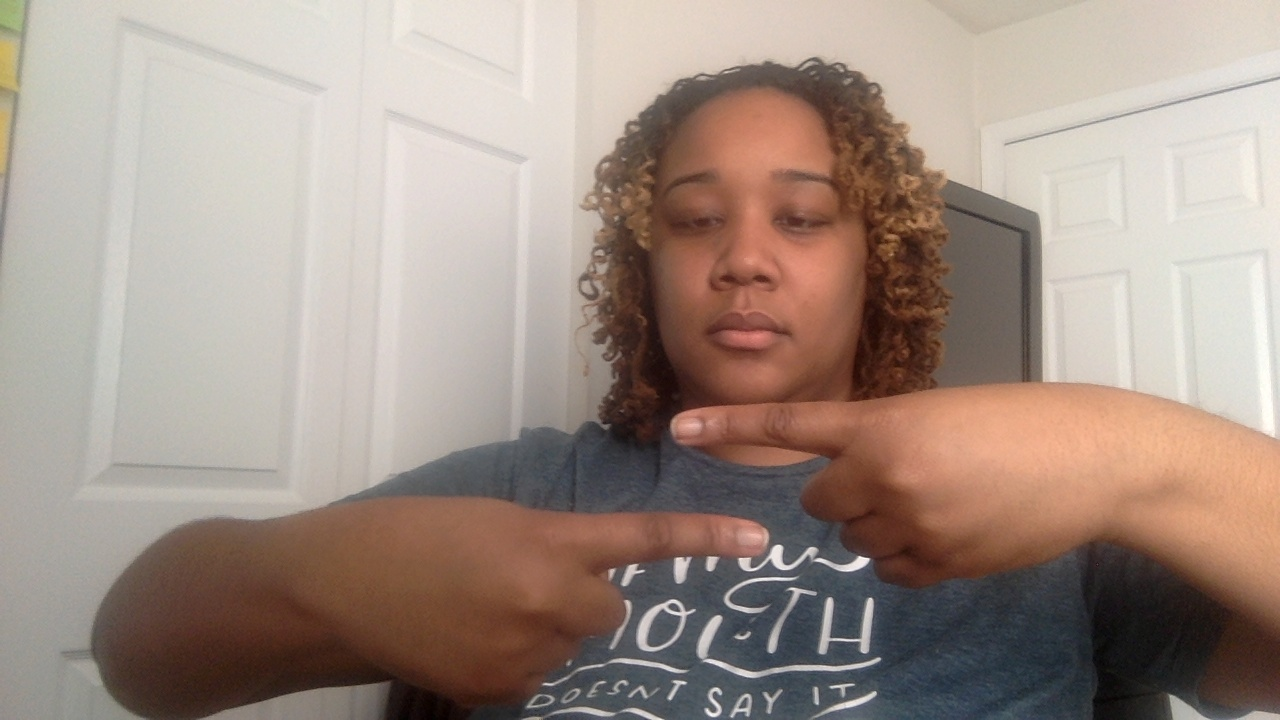go: (70, 386, 1277, 714)
